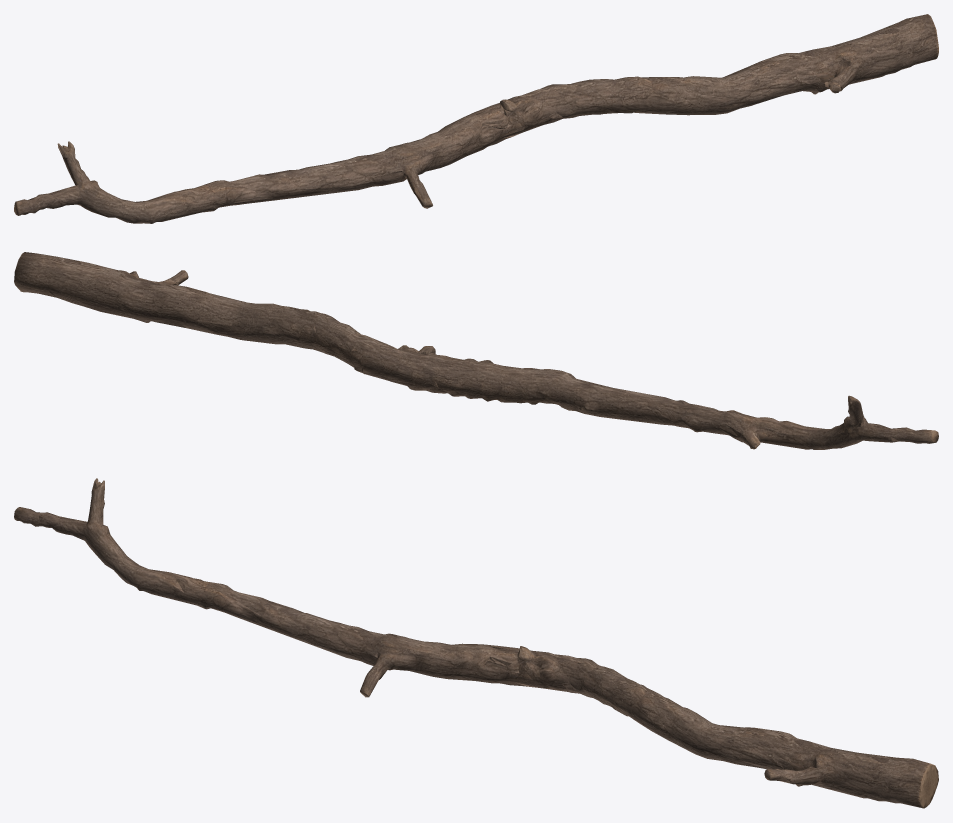
The model's file is Branch_006.fbx.
3 views of the same model, one above another, from view 1: azimuth 30°, elevation 25°; view 2: azimuth 150°, elevation 25°; view 3: azimuth 330°, elevation 25° (orthographic).
Visible parts, largest first — view 1: output_unwrapped; view 2: output_unwrapped; view 3: output_unwrapped.
Boxes of the visible parts, left/top/right/bottom form: output_unwrapped: left=14, top=14, right=938, bottom=223; output_unwrapped: left=14, top=252, right=938, bottom=449; output_unwrapped: left=14, top=478, right=938, bottom=808.
Size of the model in its own units: 190 by 23.14 by 20.65.
Materials: 1 (1 with a texture image).
